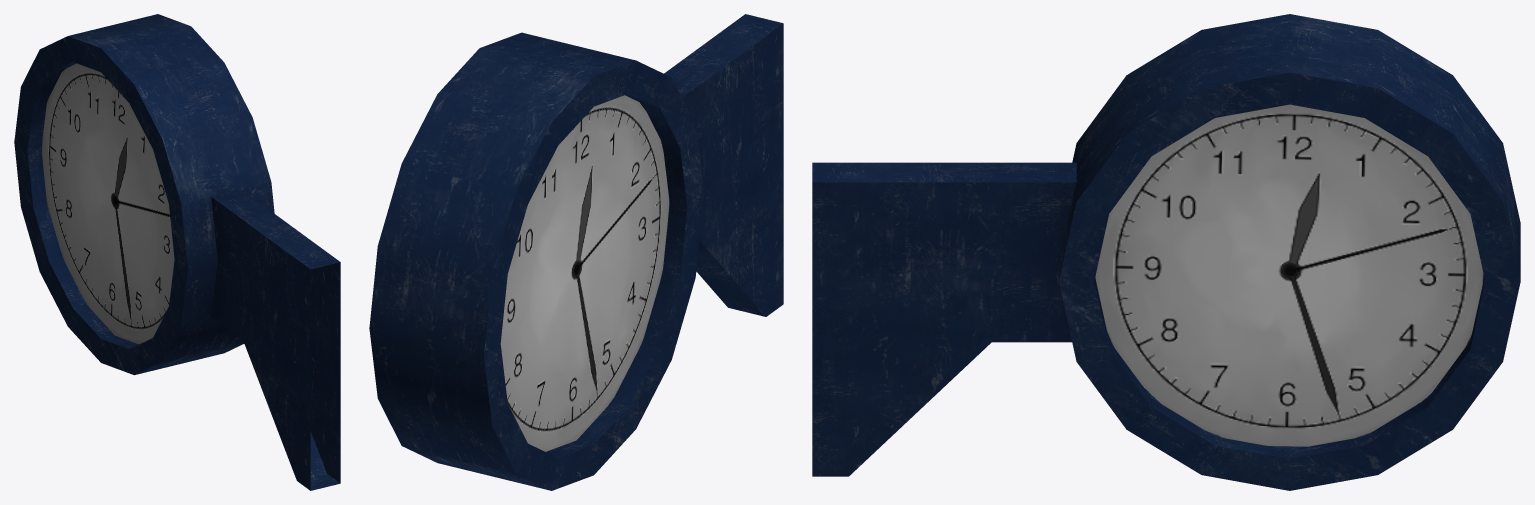
File: clock.fbx
3 renders of one model, left to right at view 1: azimuth 30°, elevation 25°; view 2: azimuth 150°, elevation 25°; view 3: azimuth 270°, elevation 25°, orthographic. The views are drawn at different scales.
Parts seen in each view (by area): view 1: clock; view 2: clock; view 3: clock.
Boxes of the visible parts, x1,y1,x2,y2 form: clock: (14,14,340,490); clock: (369,14,783,490); clock: (812,14,1520,490).
Size of the model in its own units: 9.8 by 33.09 by 50.12.
Materials: 1 (1 with a texture image).
